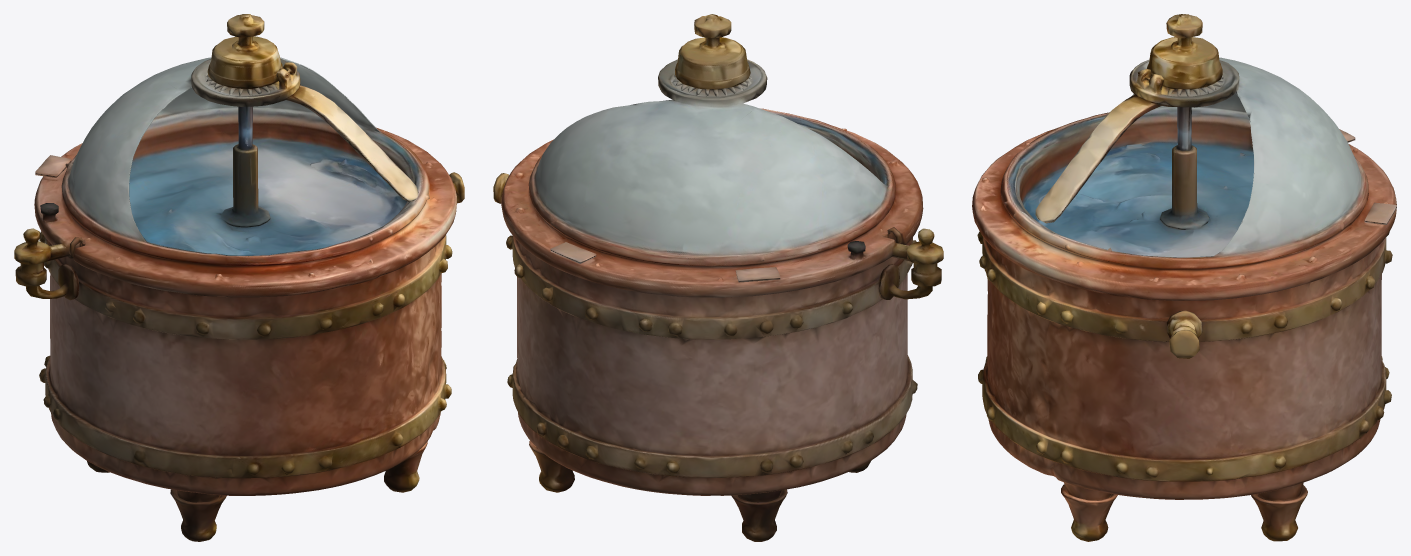
File: tank.glb
3 renders of one model, left to right at view 1: azimuth 30°, elevation 25°; view 2: azimuth 150°, elevation 25°; view 3: azimuth 270°, elevation 25°, orthographic.
Visible parts, largest first — view 1: tripo_node_7280487d-9cee-429b-b614-32fba7d86c50; view 2: tripo_node_7280487d-9cee-429b-b614-32fba7d86c50; view 3: tripo_node_7280487d-9cee-429b-b614-32fba7d86c50.
Boxes of the visible parts, left/top/right/bottom form: tripo_node_7280487d-9cee-429b-b614-32fba7d86c50: left=14, top=14, right=464, bottom=541; tripo_node_7280487d-9cee-429b-b614-32fba7d86c50: left=493, top=14, right=943, bottom=541; tripo_node_7280487d-9cee-429b-b614-32fba7d86c50: left=972, top=14, right=1396, bottom=541.
Size of the model in its own units: 0.9999 by 1 by 0.8243.
1 material, 1 textured.
